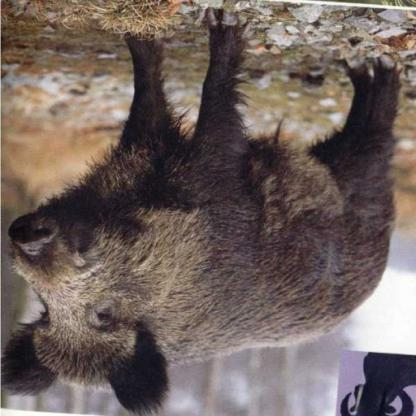boar: (17, 1, 415, 416)
